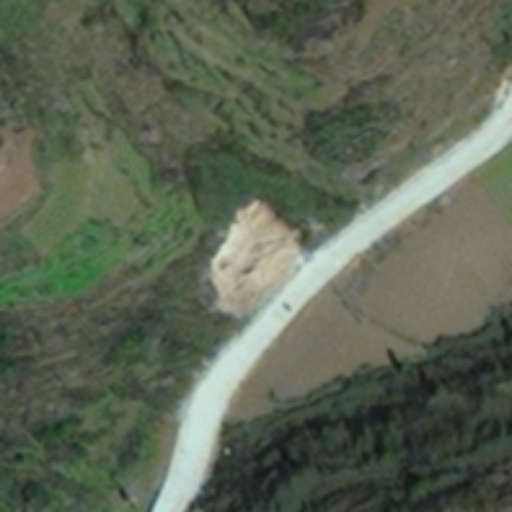landslide: (210, 196, 308, 318)
